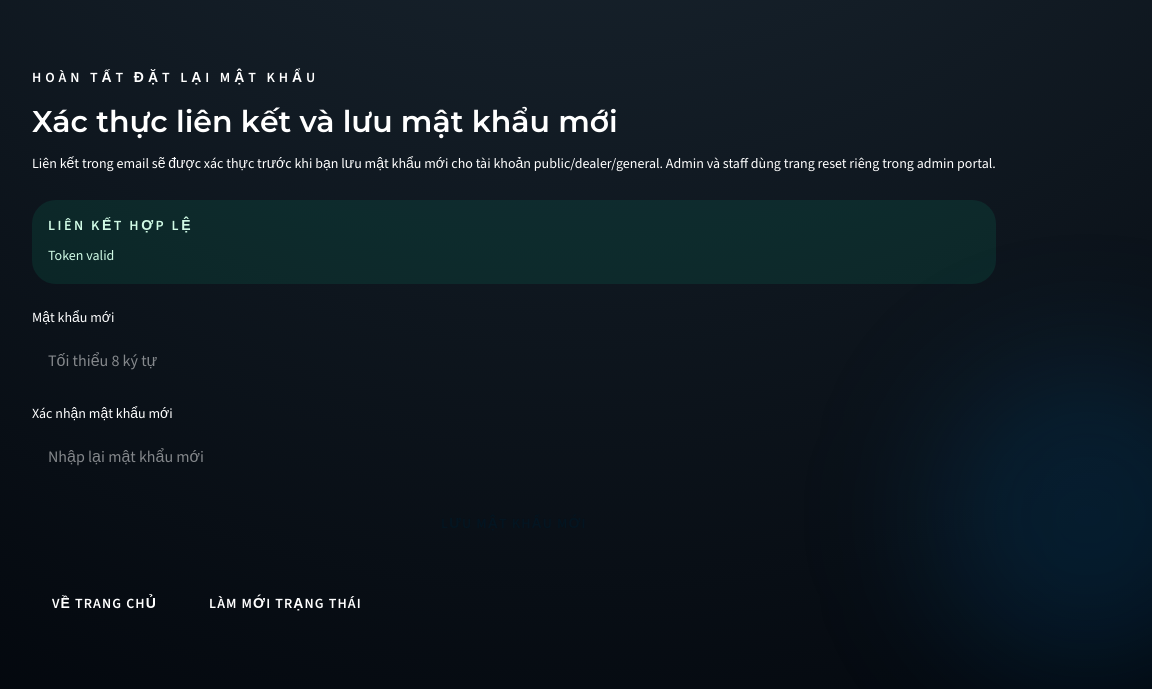
Test: ResetPasswordPage › validates password rules before posting the reset request
The image size is (1152, 689).
(page scrolled)
Expected: the text "Token valid" is shown, top-left (48, 246), bottom-right (114, 265)
Type "short" into the password field labelled "Mật khẩu mới" at x=514, y=360, box top-left (32, 336), bottom-right (996, 384)
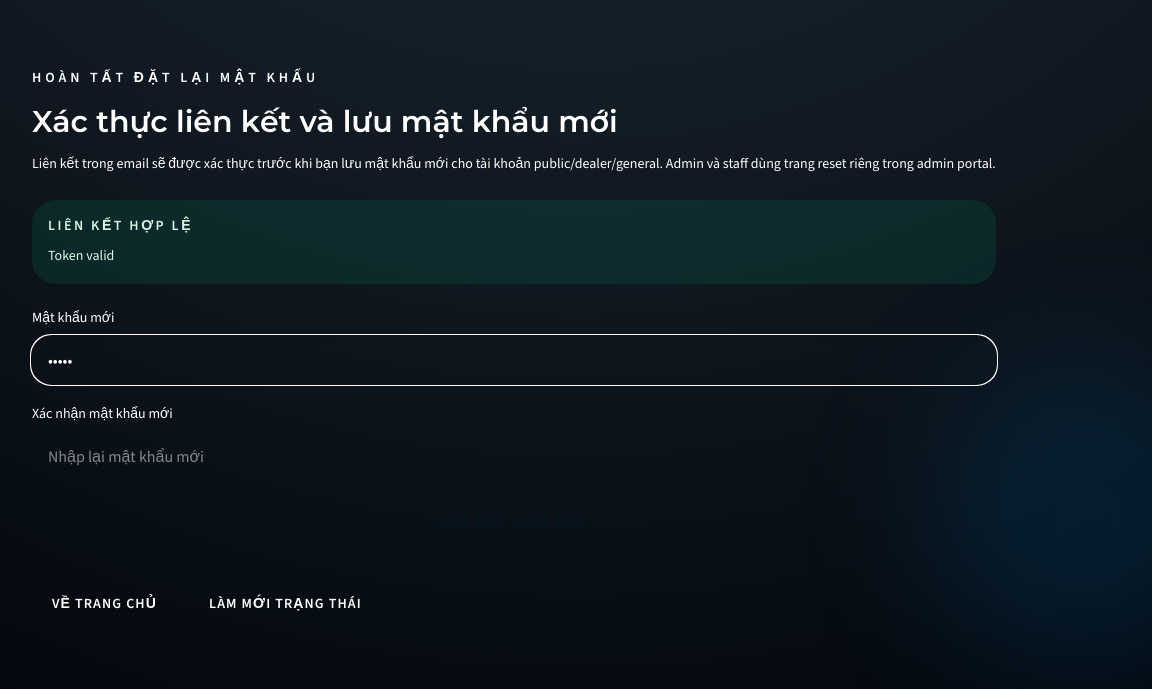
Type "short" into the password field labelled "Xác nhận mật khẩu mới" at x=514, y=456, box top-left (32, 432), bottom-right (996, 480)
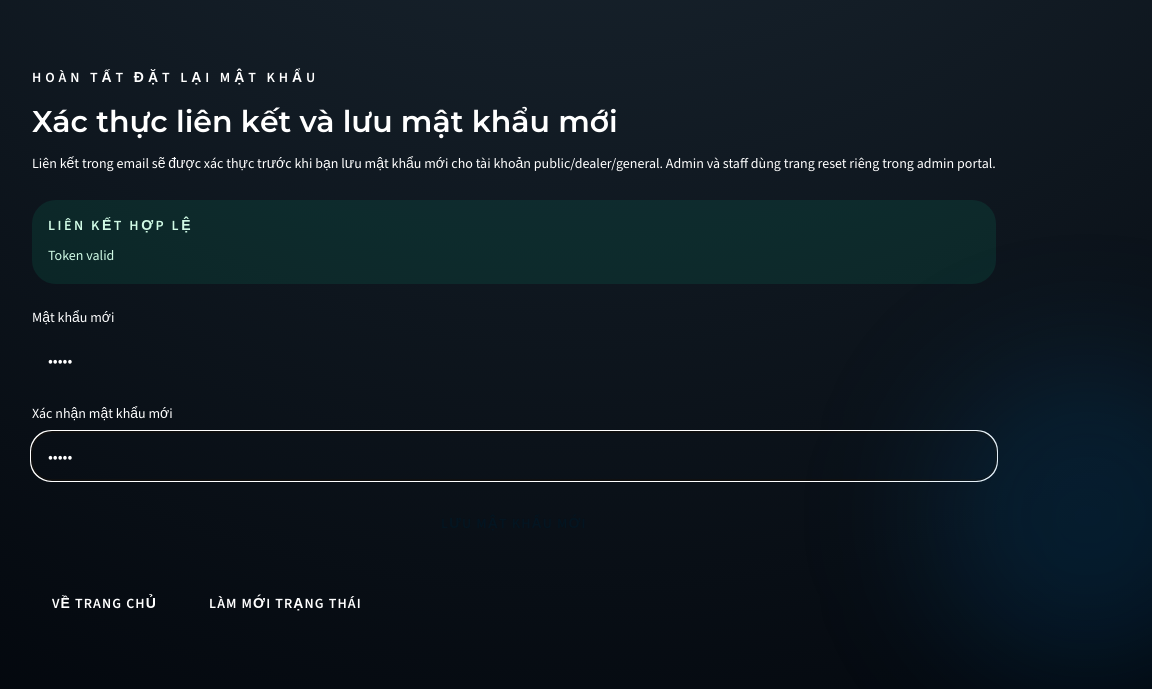
Submit the form, box top-left (32, 308), bottom-right (996, 548)
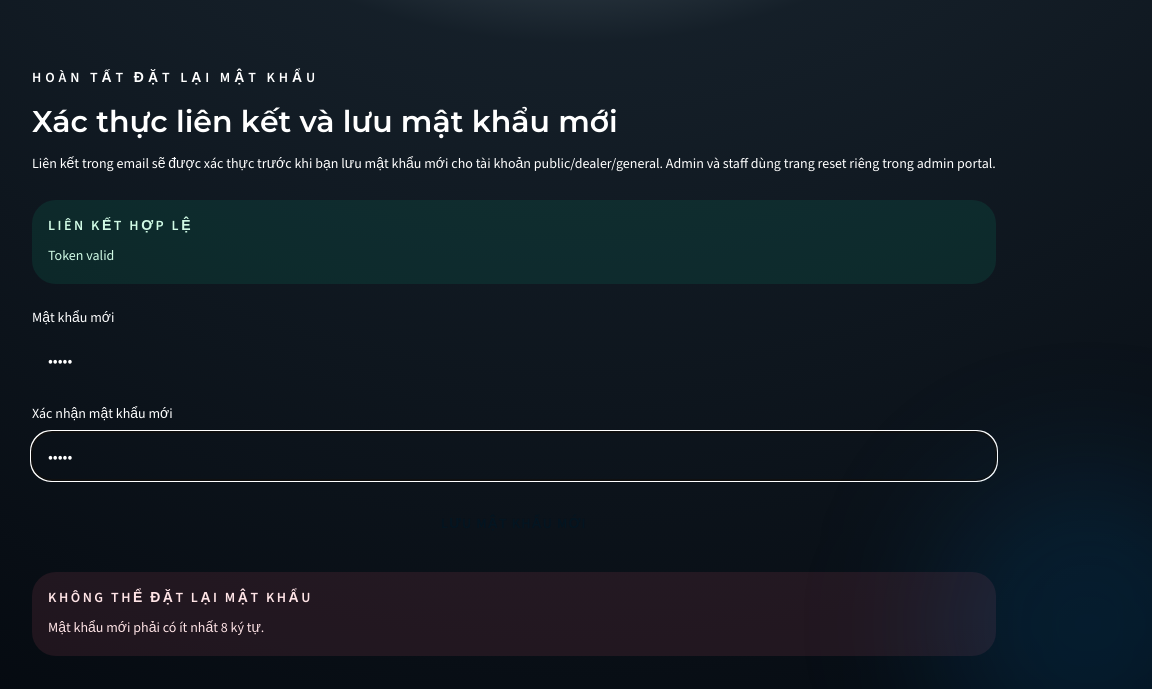
Expected: the text "Mật khẩu mới phải có ít nhất 8 ký tự." is shown, top-left (48, 618), bottom-right (264, 637)
